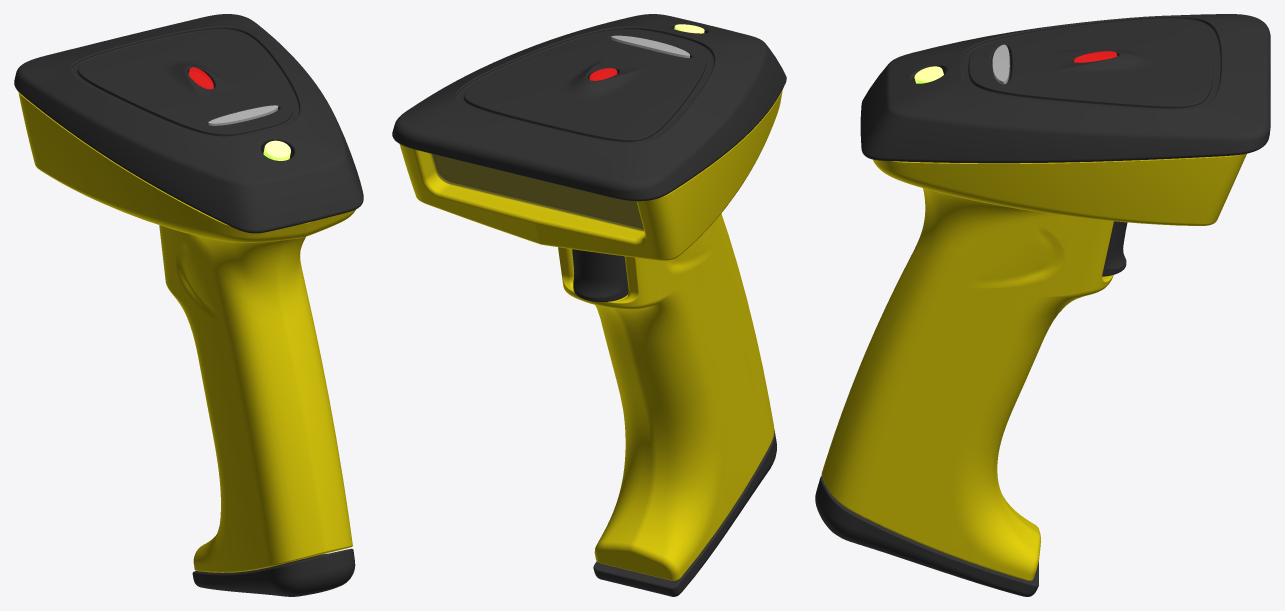
The picture shows the model from 3 angles, left to right: view 1: azimuth 30°, elevation 25°; view 2: azimuth 150°, elevation 25°; view 3: azimuth 270°, elevation 25°; orthographic projection. The views are drawn at different scales.
Parts seen in each view (by area): view 1: Scanner, BREP_3; view 2: Scanner, BREP_2; view 3: Scanner, BREP_2.
Part boxes in pixels (box(x1,y1,x2,y2)): Scanner: box(14, 14, 363, 596); BREP_3: box(263, 140, 290, 160); Scanner: box(392, 14, 786, 596); BREP_2: box(572, 249, 628, 301); Scanner: box(815, 14, 1270, 596); BREP_2: box(1102, 221, 1127, 276).
Bounding box in the file's own units: 0.0827 × 0.1589 × 0.1245.
